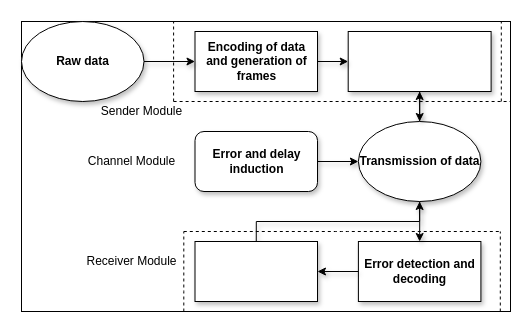
Some shapes in this 529 by 330 pixel diagram are drawn without their labels. Here are the shapes that lost their labels. From the top down, the centre of each, then its label:
[420,62]: Sending the frames based on the protocols and receiving the acknowledgment
[257,272]: Information extraction and sending acknowledgement
